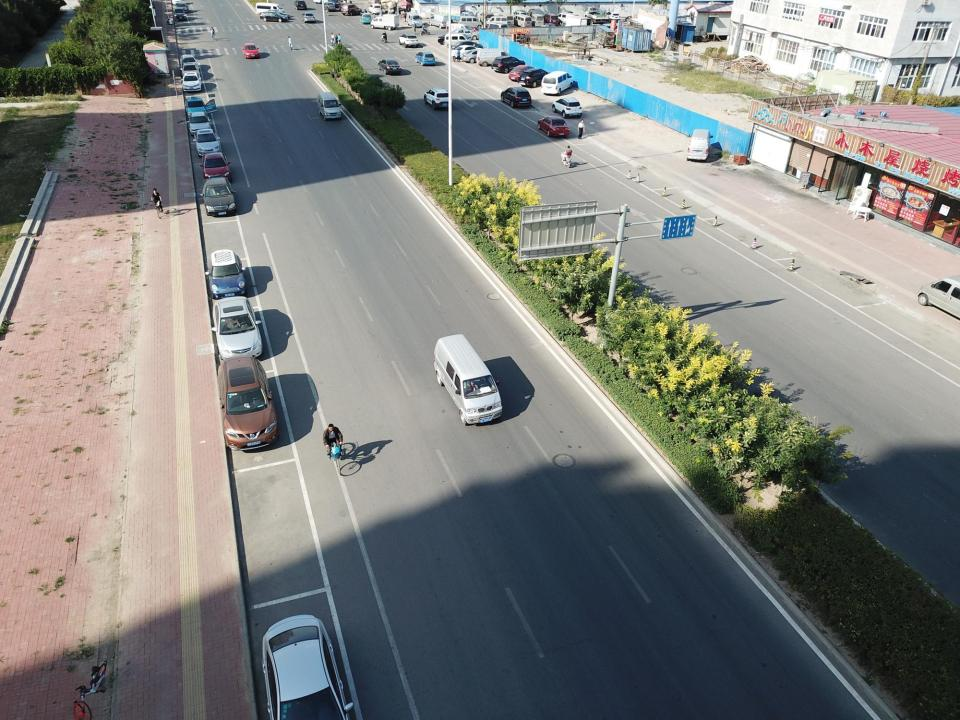car: (262, 614, 353, 718), (217, 354, 277, 450), (211, 295, 264, 360), (205, 250, 247, 300), (200, 177, 237, 215), (192, 128, 221, 158), (200, 153, 231, 181), (186, 96, 216, 120), (536, 116, 570, 137), (518, 68, 552, 87), (552, 97, 582, 118), (423, 88, 453, 109), (186, 111, 212, 135), (500, 87, 532, 106), (492, 56, 525, 73), (508, 65, 540, 82), (461, 50, 498, 63), (454, 45, 484, 59), (438, 33, 472, 45), (182, 72, 202, 92), (378, 58, 401, 74), (452, 41, 484, 52), (449, 28, 480, 39), (180, 63, 199, 80), (180, 54, 200, 70), (259, 10, 291, 20), (415, 51, 436, 66), (242, 42, 260, 58), (398, 34, 418, 48), (260, 12, 288, 22), (342, 4, 362, 16), (542, 13, 558, 25), (604, 11, 620, 22), (174, 7, 186, 21), (302, 12, 316, 23), (368, 3, 381, 14), (360, 13, 372, 24), (176, 2, 189, 12), (322, 2, 336, 11), (339, 2, 354, 10), (294, 0, 306, 10), (625, 14, 641, 21)
truck: (560, 15, 592, 34), (370, 14, 399, 30), (582, 6, 608, 23)
van: (434, 333, 502, 425), (686, 129, 714, 160), (542, 71, 572, 95), (317, 92, 342, 119), (477, 49, 512, 67), (444, 32, 472, 48), (256, 2, 284, 15), (450, 23, 474, 36), (428, 14, 450, 28), (458, 16, 482, 28), (513, 14, 532, 27), (406, 12, 422, 27), (488, 22, 508, 33), (558, 12, 578, 22), (498, 12, 513, 25), (526, 9, 541, 21), (486, 16, 508, 24), (530, 14, 544, 26), (513, 10, 526, 20)
